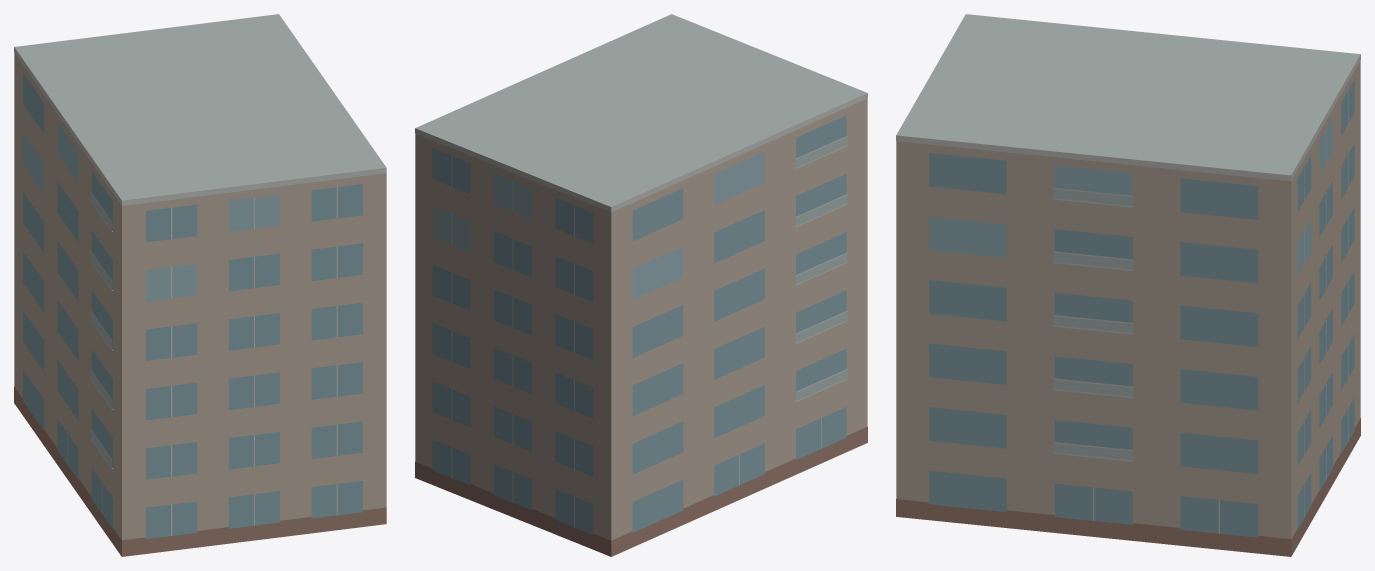
The model's file is survey-upis-33030912.glb.
3 renders of one model, left to right at view 1: azimuth 30°, elevation 25°; view 2: azimuth 150°, elevation 25°; view 3: azimuth 270°, elevation 25°, orthographic. The views are drawn at different scales.
Visible parts, largest first — view 1: survey-upis-33030912.tmp; view 2: survey-upis-33030912.tmp; view 3: survey-upis-33030912.tmp.
Part boxes in pixels (x1,y1,x2,y2): survey-upis-33030912.tmp: (14, 14, 386, 556); survey-upis-33030912.tmp: (415, 14, 867, 556); survey-upis-33030912.tmp: (896, 14, 1360, 556).
Bounding box in the file's own units: 14.67 × 16.15 × 17.84.
